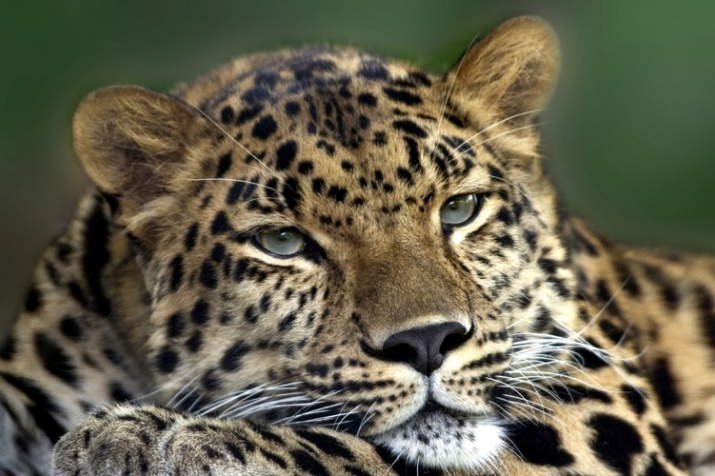amur_leopard: (58, 36, 649, 442)
